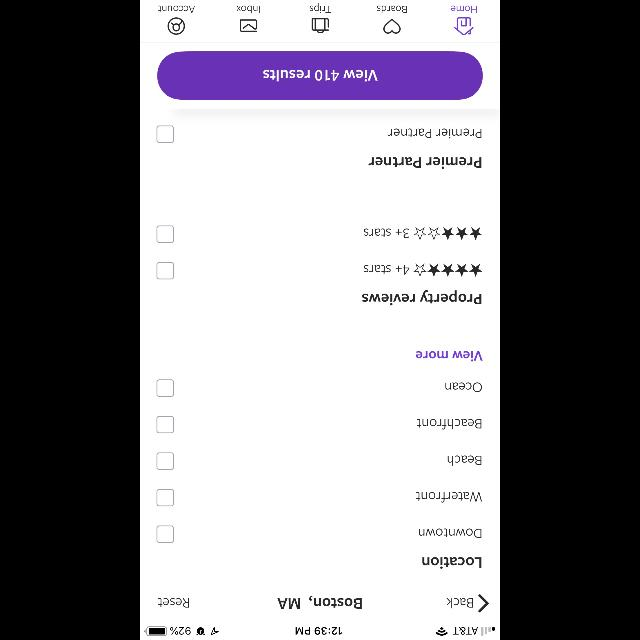checkbox: (156, 489, 174, 507), (156, 416, 174, 434), (156, 379, 174, 397), (158, 452, 175, 470), (156, 526, 174, 542), (156, 262, 174, 278), (156, 126, 174, 142), (157, 225, 173, 242)
icon: (413, 264, 482, 276), (413, 228, 482, 240), (453, 17, 472, 35), (168, 18, 185, 34), (384, 18, 401, 34), (312, 18, 328, 34), (240, 20, 256, 32), (478, 594, 488, 612)
text: (362, 290, 482, 306), (368, 157, 482, 169), (277, 596, 361, 608), (388, 128, 480, 138), (422, 557, 482, 569), (417, 418, 481, 429), (416, 492, 482, 502), (416, 351, 482, 361), (419, 528, 481, 538), (364, 265, 410, 275), (364, 228, 408, 238), (444, 382, 482, 392), (447, 456, 481, 466), (158, 598, 190, 608), (447, 598, 473, 608), (377, 5, 407, 13), (158, 6, 195, 12), (310, 3, 330, 13), (237, 5, 260, 13), (451, 6, 477, 12)
textbutton: (158, 52, 482, 100)
uppertaskbar: (140, 626, 500, 640)
